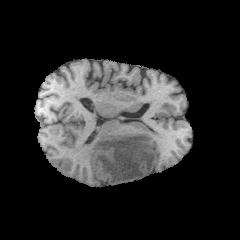glioma: (88, 132, 155, 183)
